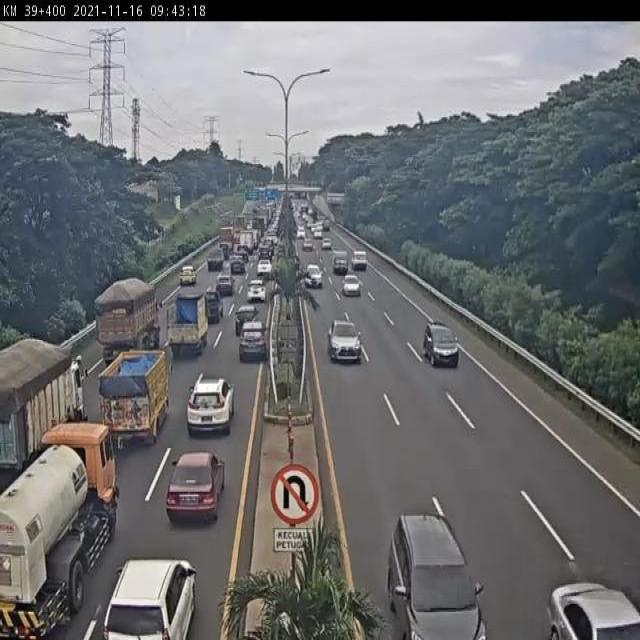car: (102, 556, 199, 640), (165, 448, 227, 525), (186, 371, 233, 438), (423, 321, 460, 368), (327, 319, 363, 365), (237, 320, 269, 368), (233, 304, 260, 337), (197, 290, 221, 326), (340, 272, 362, 299), (303, 262, 324, 290), (214, 272, 235, 297), (246, 280, 267, 305), (178, 264, 197, 287), (228, 255, 247, 277), (256, 258, 274, 278)
small truck: (99, 348, 166, 445), (165, 295, 207, 356), (207, 248, 224, 271)
truck-m-: (0, 420, 118, 639), (0, 339, 85, 476), (97, 278, 161, 366)
